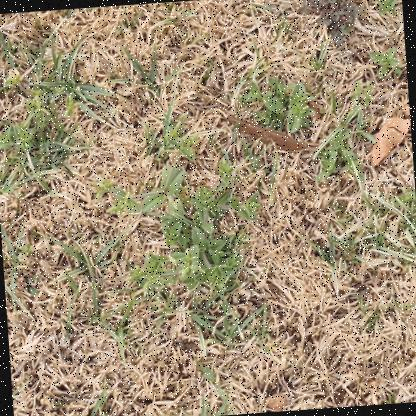Weeds: (87, 122, 272, 320), (0, 67, 82, 166), (240, 73, 316, 139), (311, 126, 367, 186), (301, 0, 360, 51), (370, 45, 403, 83), (370, 0, 402, 18)
